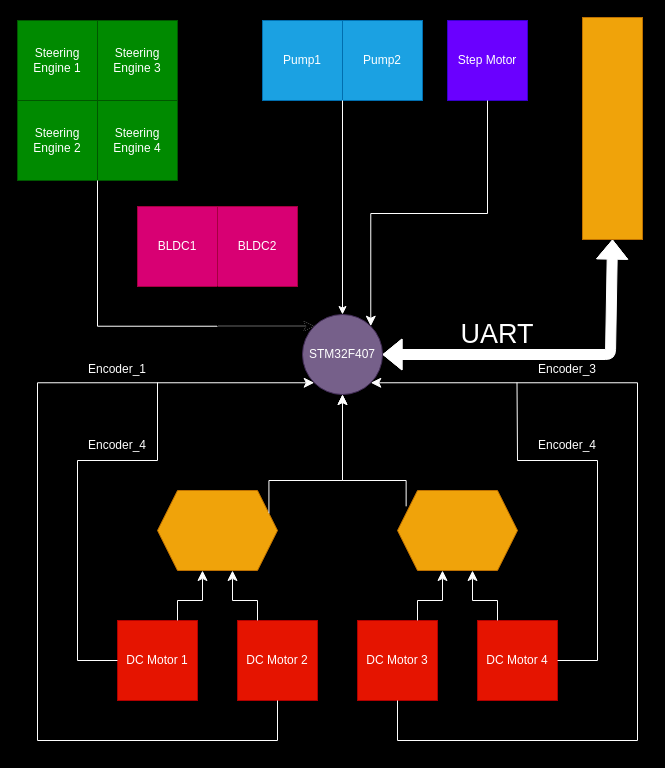
This 665x768 diagram has some shape labels left out. Each missing label, with the centre of its shape:
Motor Driver 1: the point at 217,530
Motor Driver 2: the point at 457,530
Orange PI: the point at 612,128
